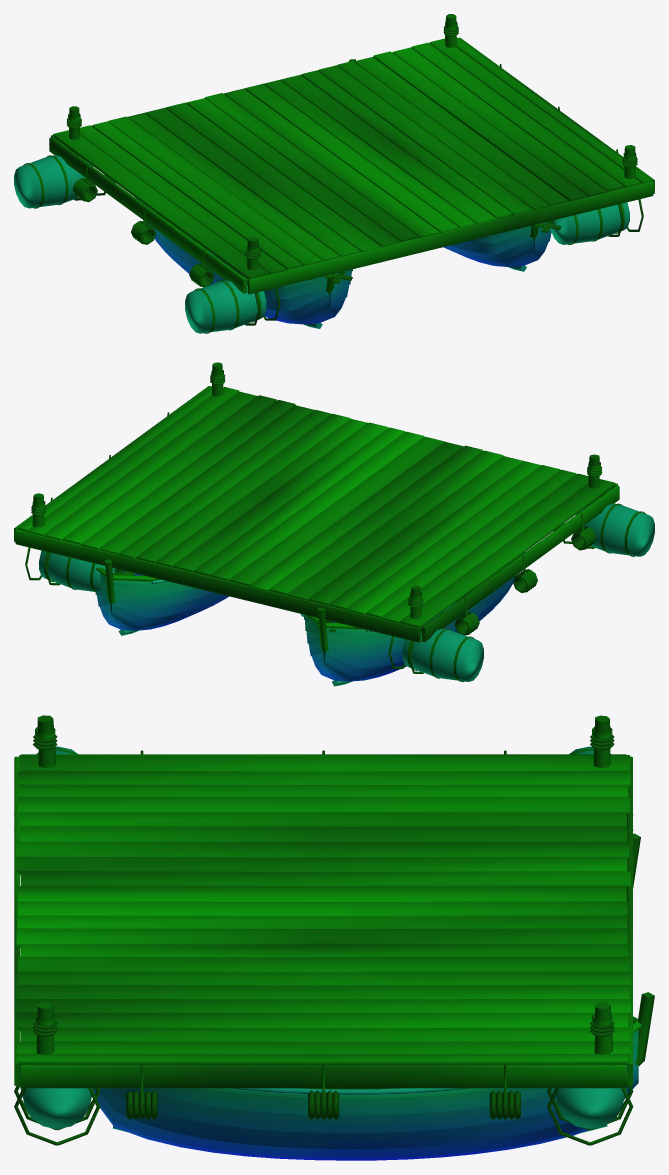
Rendered from raft_deck_small_tucked.glb.
3 views of the same model, one above another, from view 1: azimuth 30°, elevation 25°; view 2: azimuth 150°, elevation 25°; view 3: azimuth 270°, elevation 25° (orthographic). The views are drawn at different scales.
Parts seen in each view (by area): view 1: raft_deck_small_tucked; view 2: raft_deck_small_tucked; view 3: raft_deck_small_tucked.
Part boxes in pixels (x1,y1,x2,y2): raft_deck_small_tucked: (14,14,654,333); raft_deck_small_tucked: (14,362,654,686); raft_deck_small_tucked: (14,715,654,1160).
Size of what is drawn, in the model's own units: 6.83 by 1.97 by 5.29.
